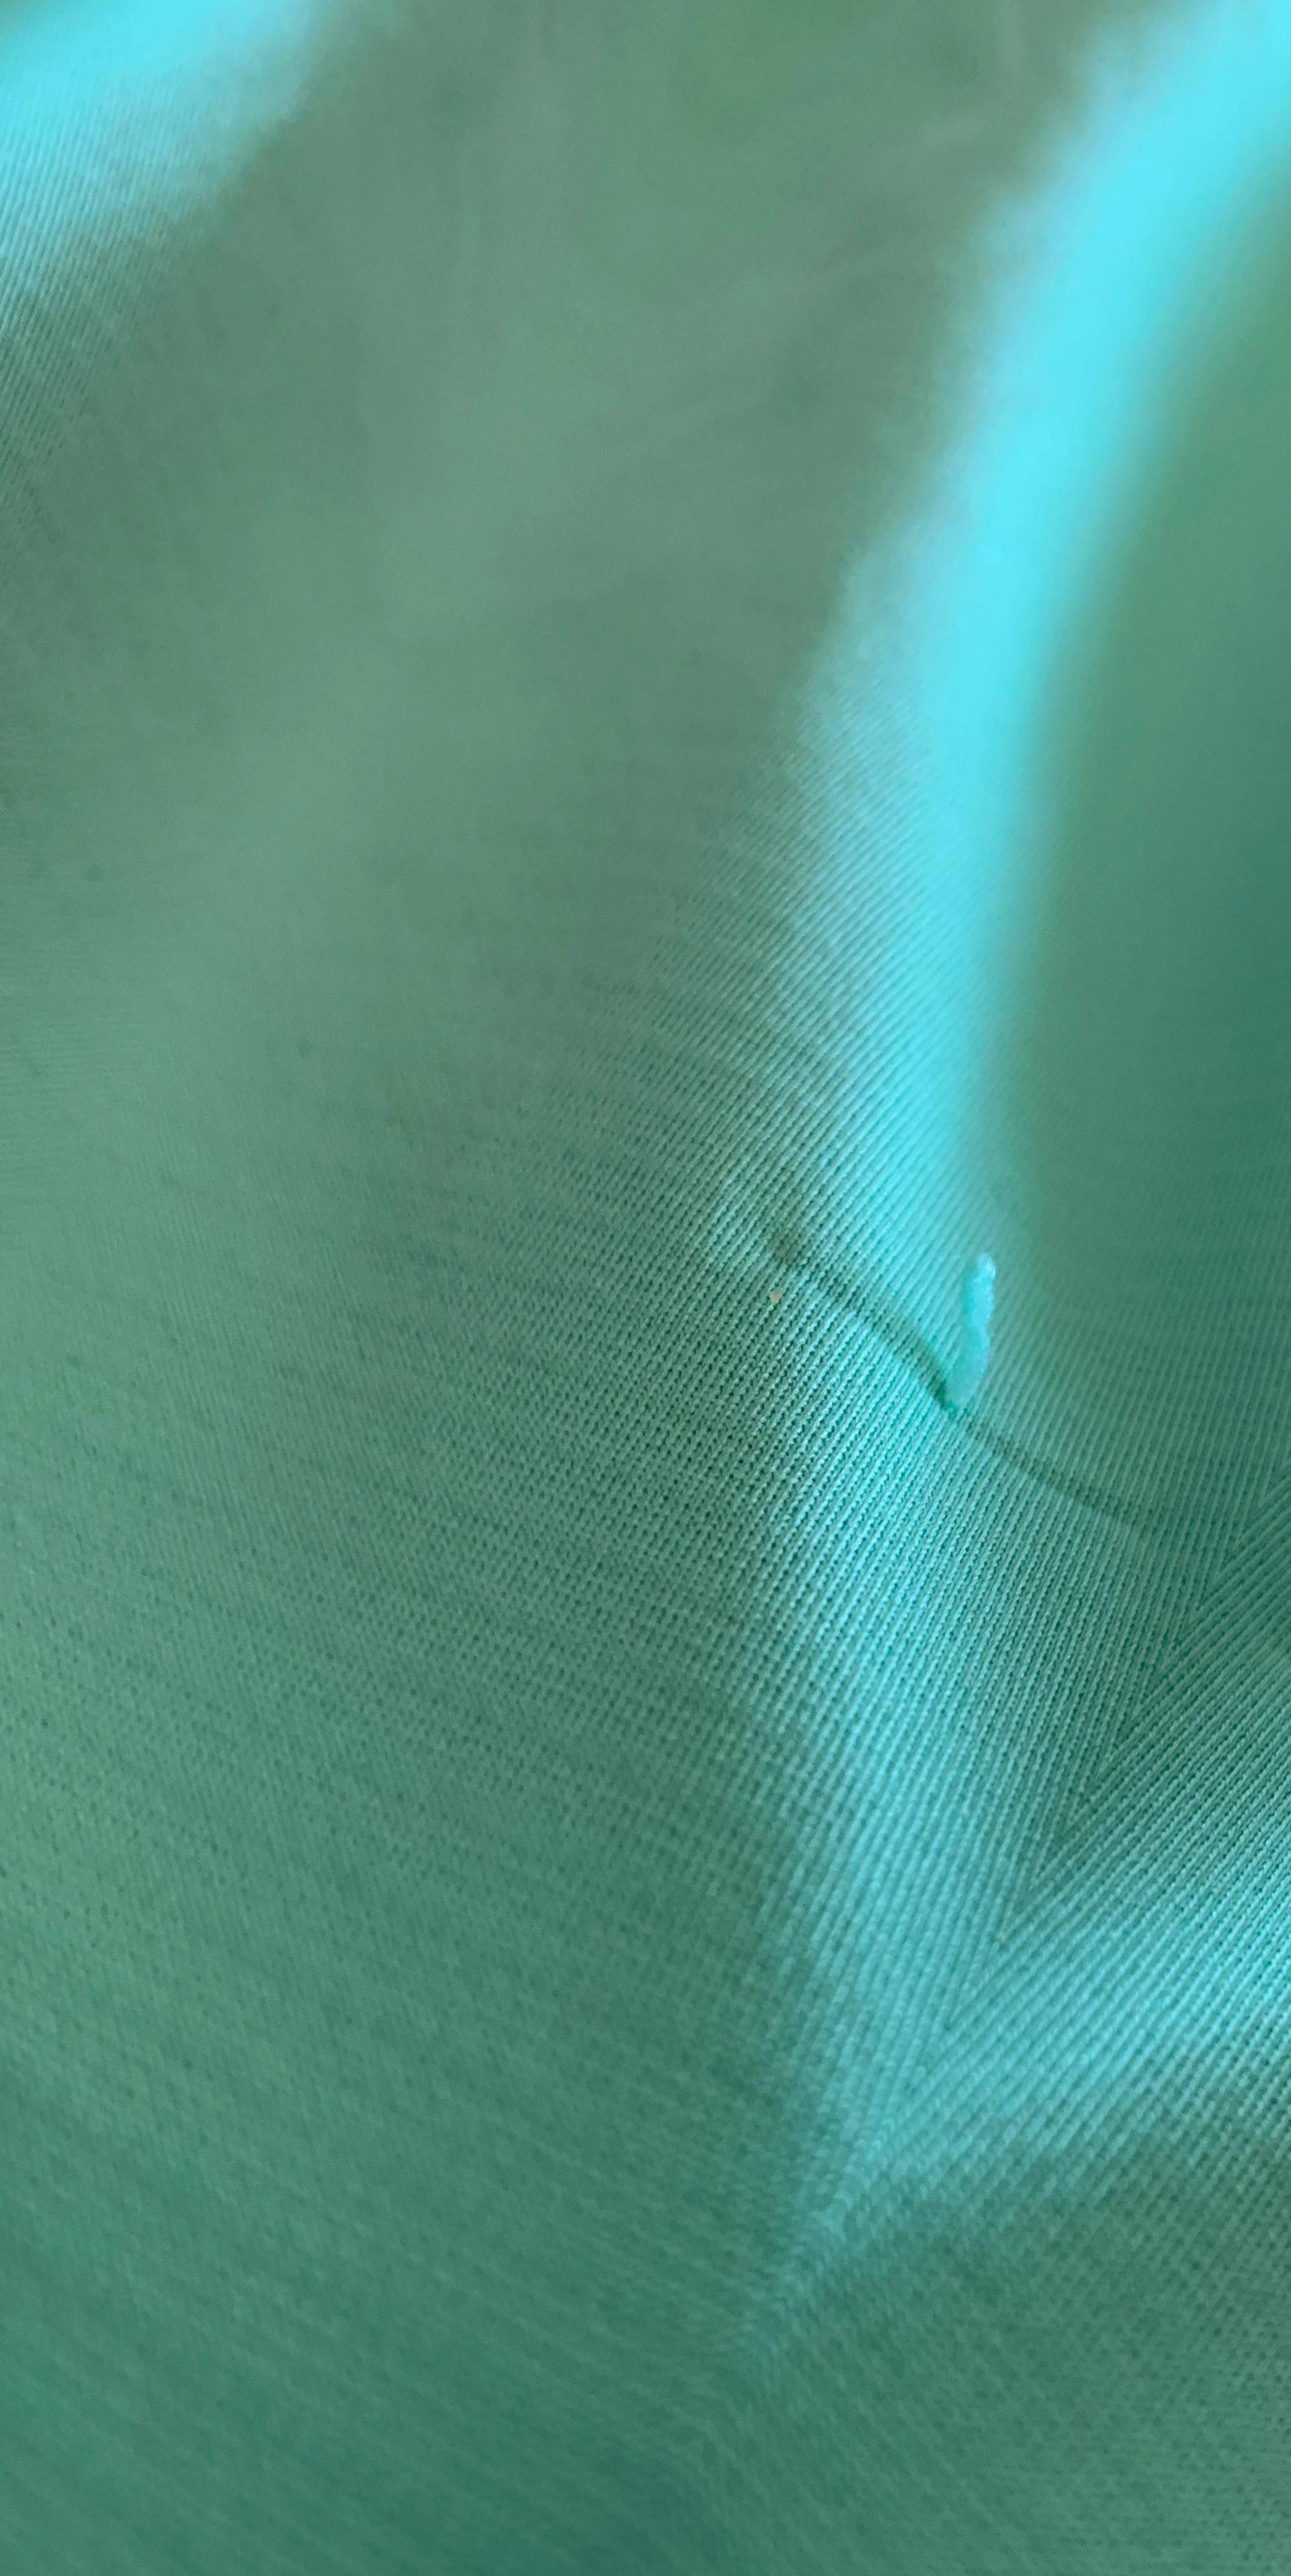snag: (851, 1182, 1044, 1521)
